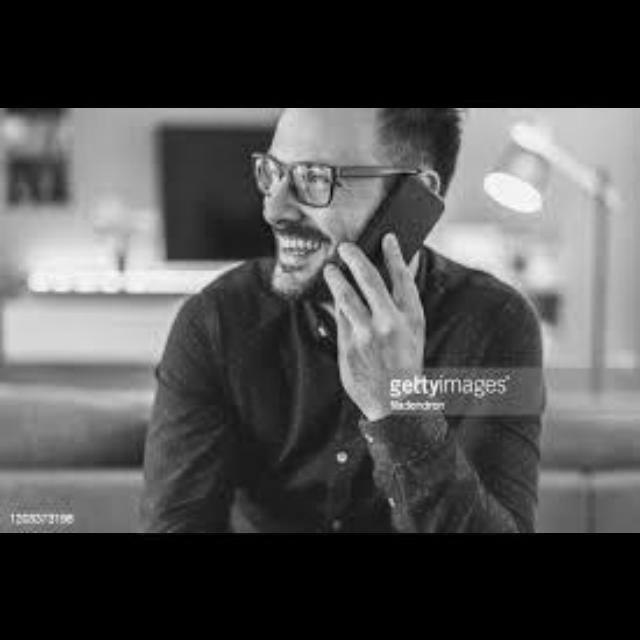fake: (326, 164, 478, 360)
